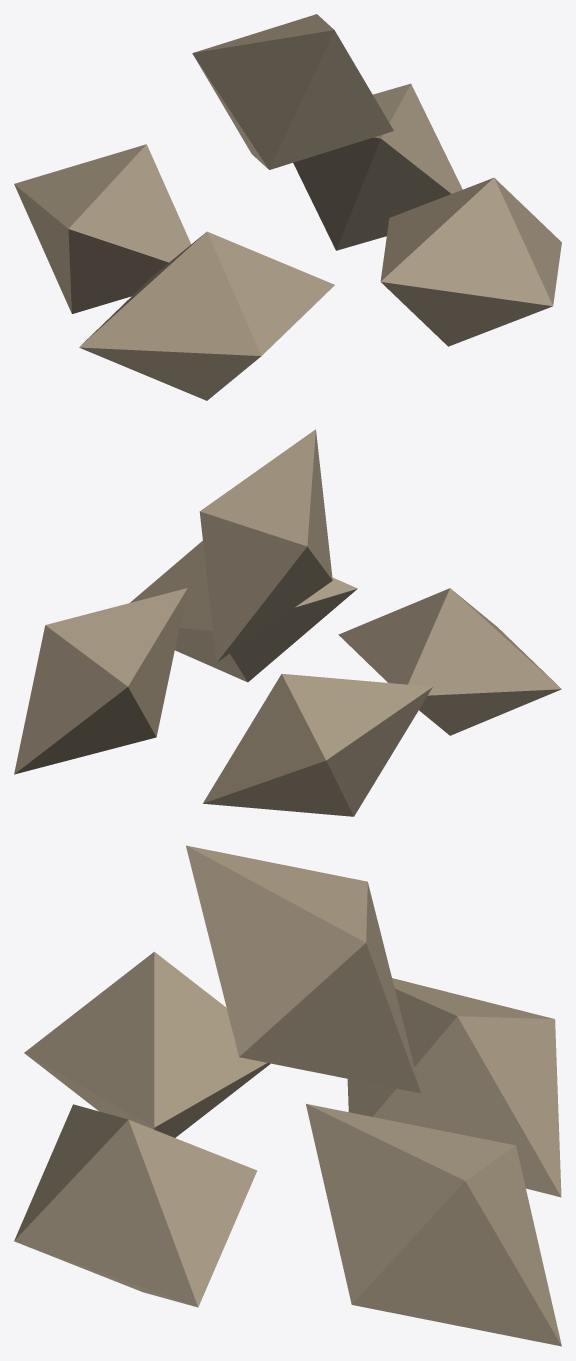
Rendered from PileContent.fbx.
3 renders of one model, top to bottom at view 1: azimuth 30°, elevation 25°; view 2: azimuth 150°, elevation 25°; view 3: azimuth 270°, elevation 25°, orthographic. The views are drawn at different scales.
Parts seen in each view (by area): view 1: PileContent; view 2: PileContent; view 3: PileContent.
Part boxes in pixels (x1=…): PileContent: x1=14, y1=14, x2=561, y2=400; PileContent: x1=14, y1=429, x2=561, y2=816; PileContent: x1=14, y1=845, x2=561, y2=1346.
Bounding box in the file's own units: 0.7433 × 0.463 × 0.5881.
